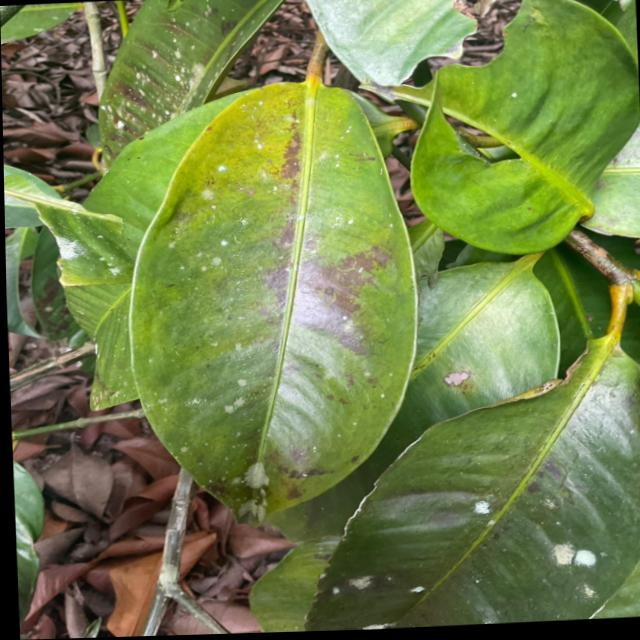Leaf Spot: (140, 32, 224, 98), (196, 387, 286, 445), (535, 540, 635, 592), (328, 567, 441, 605), (162, 228, 249, 273), (49, 221, 108, 285), (448, 487, 528, 530), (230, 104, 286, 158), (206, 328, 264, 374), (327, 126, 375, 178), (108, 105, 181, 136), (200, 159, 244, 197), (331, 614, 418, 633), (490, 87, 543, 115)
